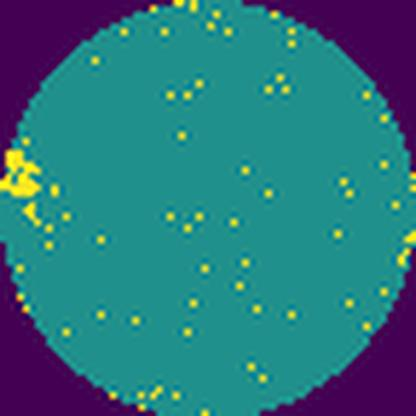Loc: (0, 150, 44, 195)
